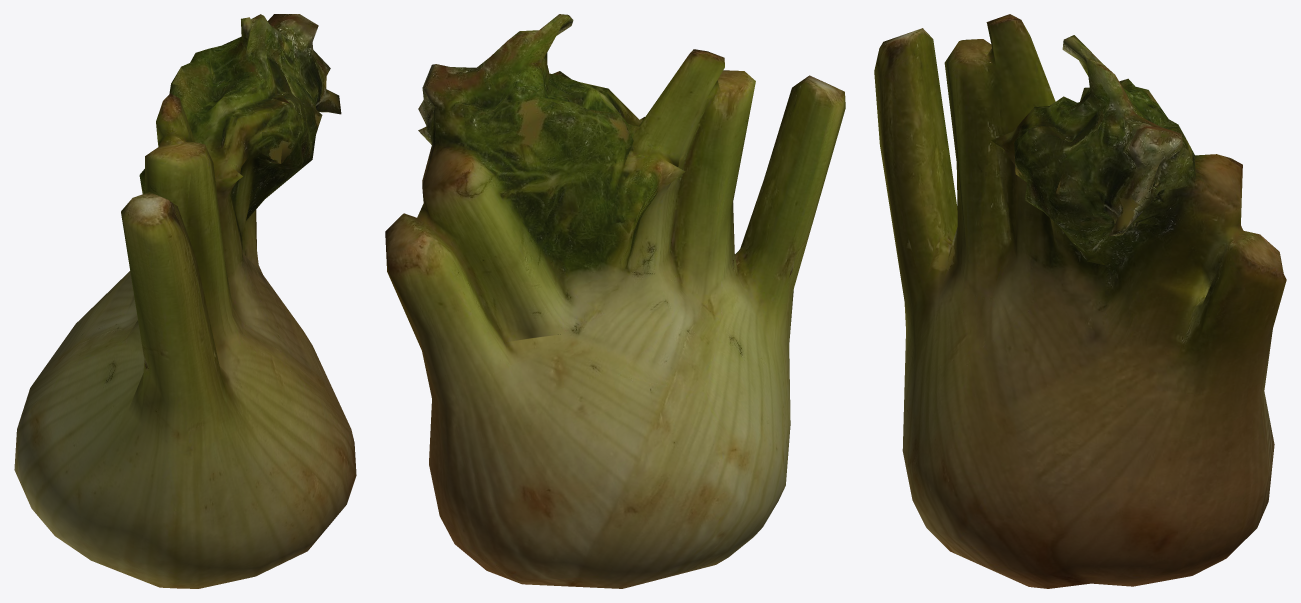
3 views of the same model, side by side, from view 1: azimuth 30°, elevation 25°; view 2: azimuth 150°, elevation 25°; view 3: azimuth 270°, elevation 25° (orthographic). The views are drawn at different scales.
Visible parts, largest first — view 1: 13_fennel; view 2: 13_fennel; view 3: 13_fennel.
Part boxes in pixels (bbox=[...]): 13_fennel: bbox=[14, 14, 356, 588]; 13_fennel: bbox=[385, 14, 845, 588]; 13_fennel: bbox=[874, 14, 1286, 588].
Bounding box in the file's own units: 0.7766 × 1.2 × 0.8263.
1 material, 1 textured.
